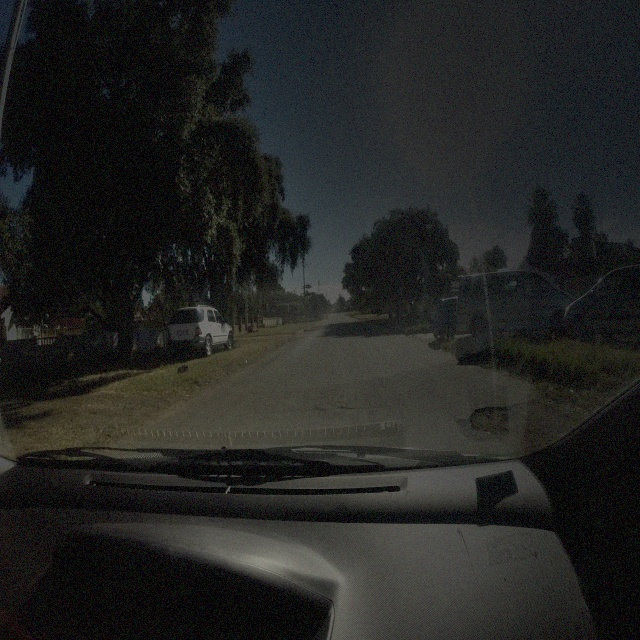pothole: (469, 394, 528, 438)
